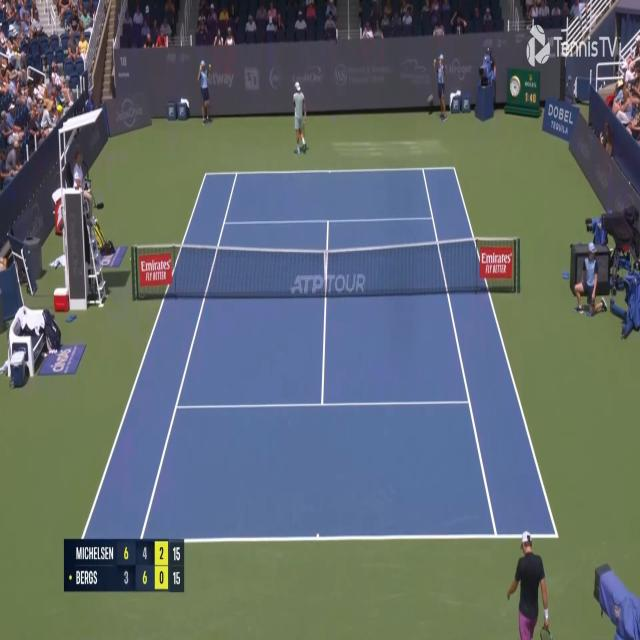tennis-player: (505, 528, 552, 640), (292, 78, 308, 156)
